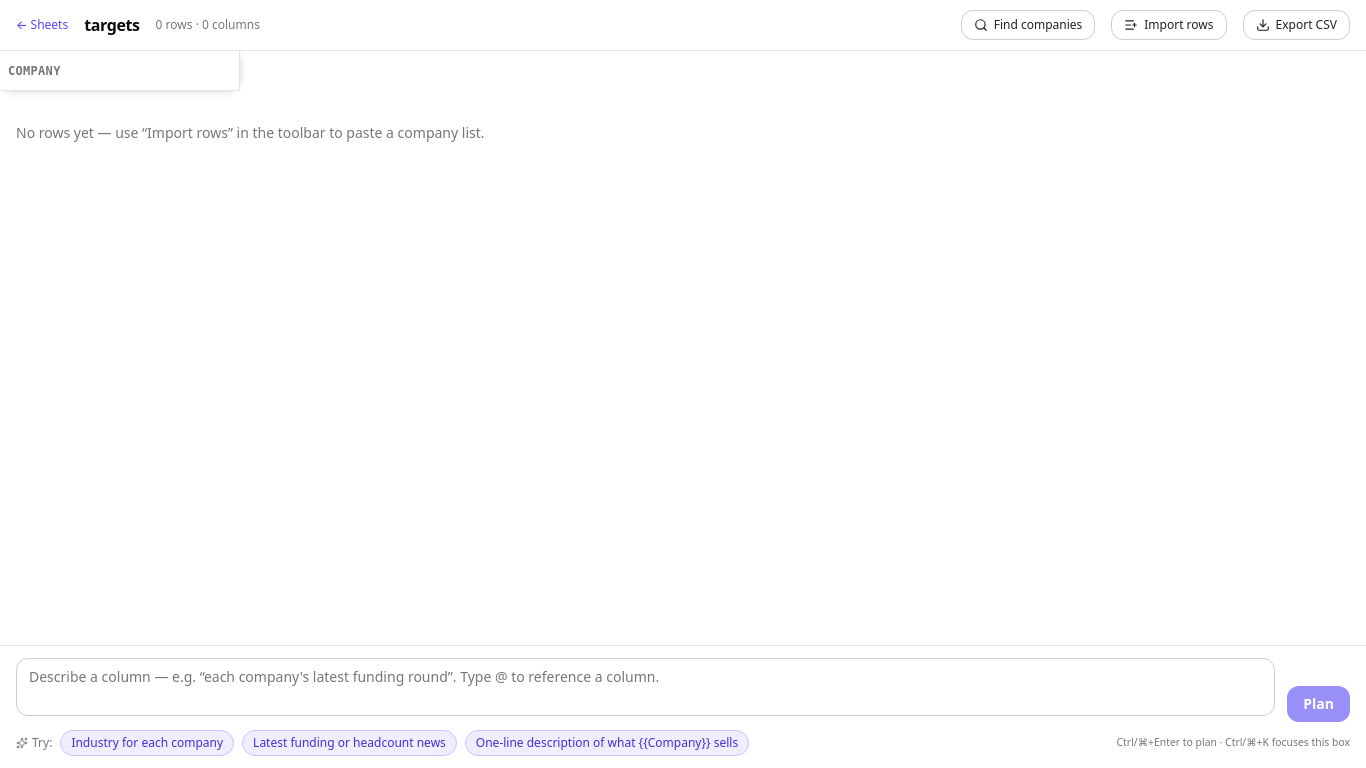
workspace wiring › a successful generation resnapshots the store
This screenshot has width=1366, height=768.
Expected: the element with test id "sheet-toolbar" is shown, [0,0,1365,51]
Click the button "Find companies" at (1028, 25), box [961,10,1095,40]
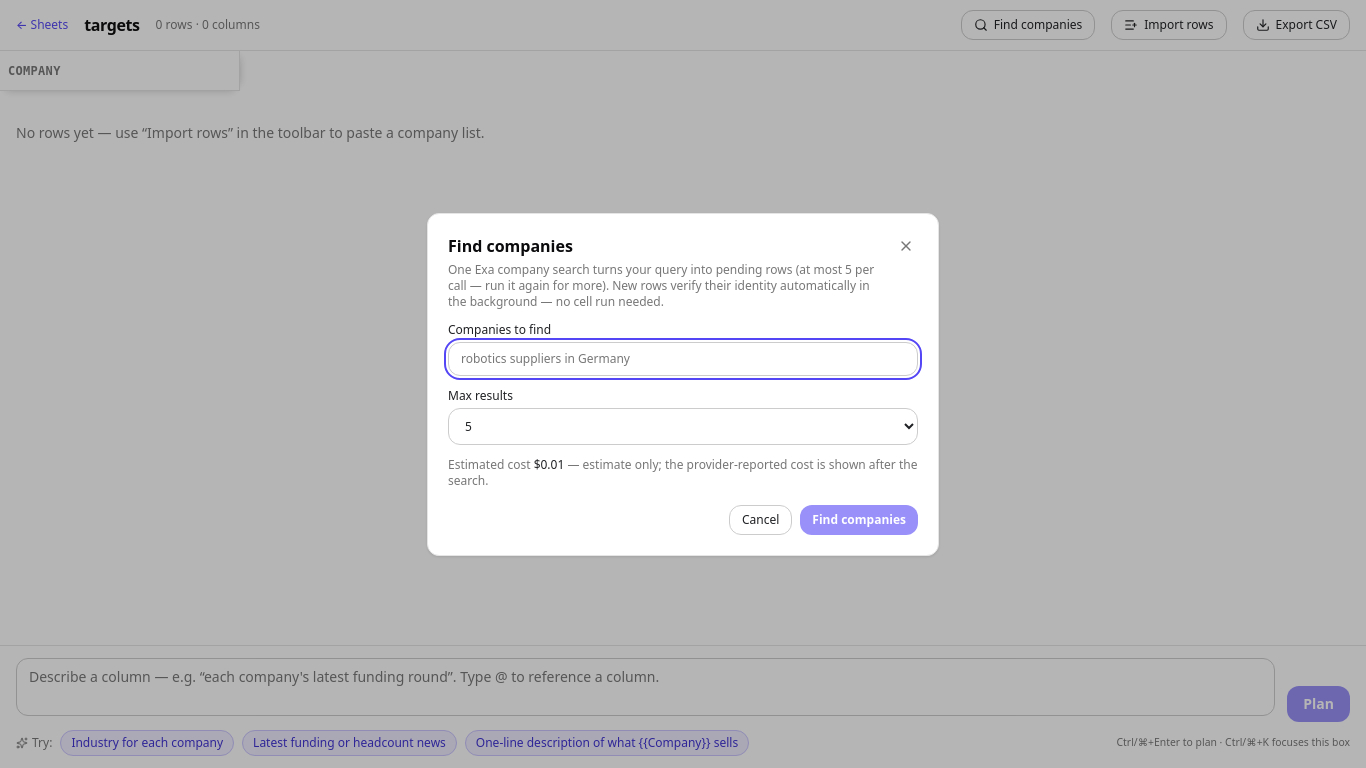
Type "robotics suppliers" into the field labelled "Companies to find" at (683, 358), box [448,342,918,376]
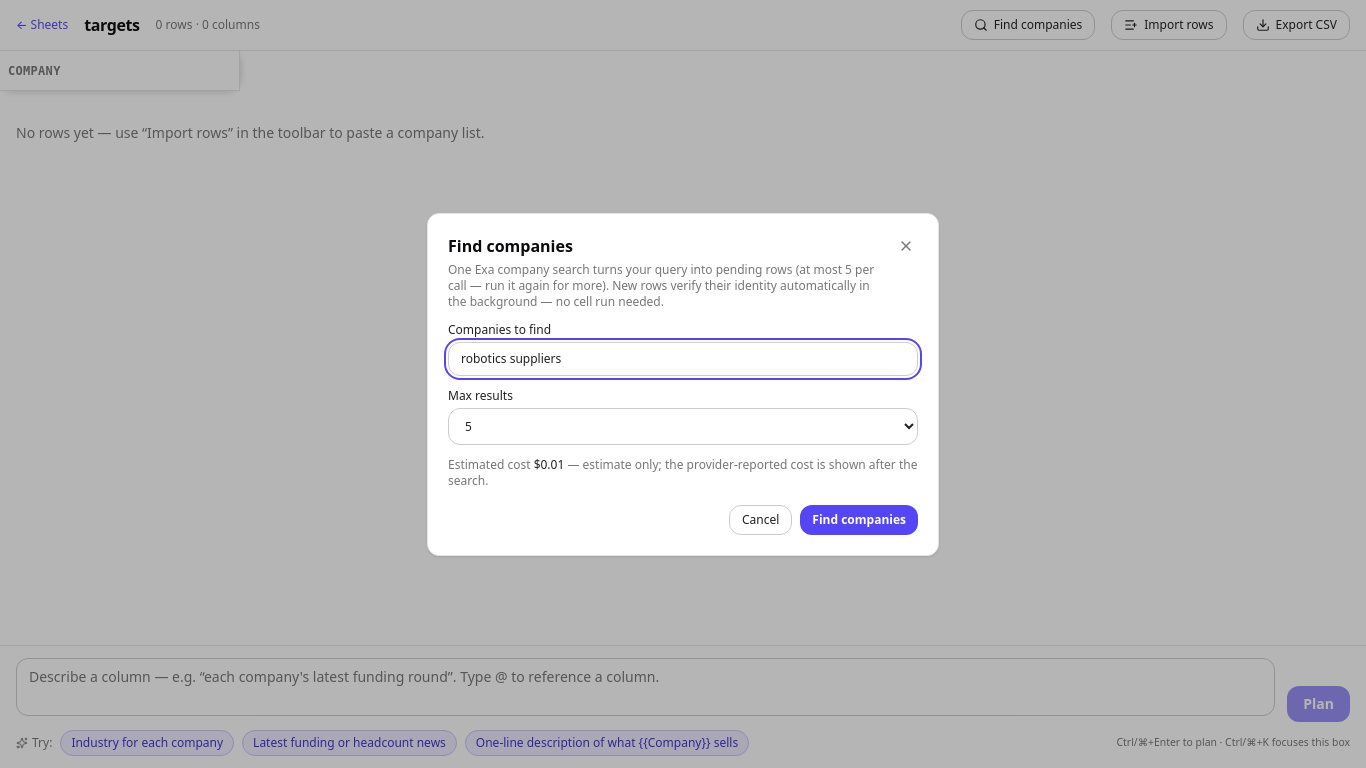
Press Enter
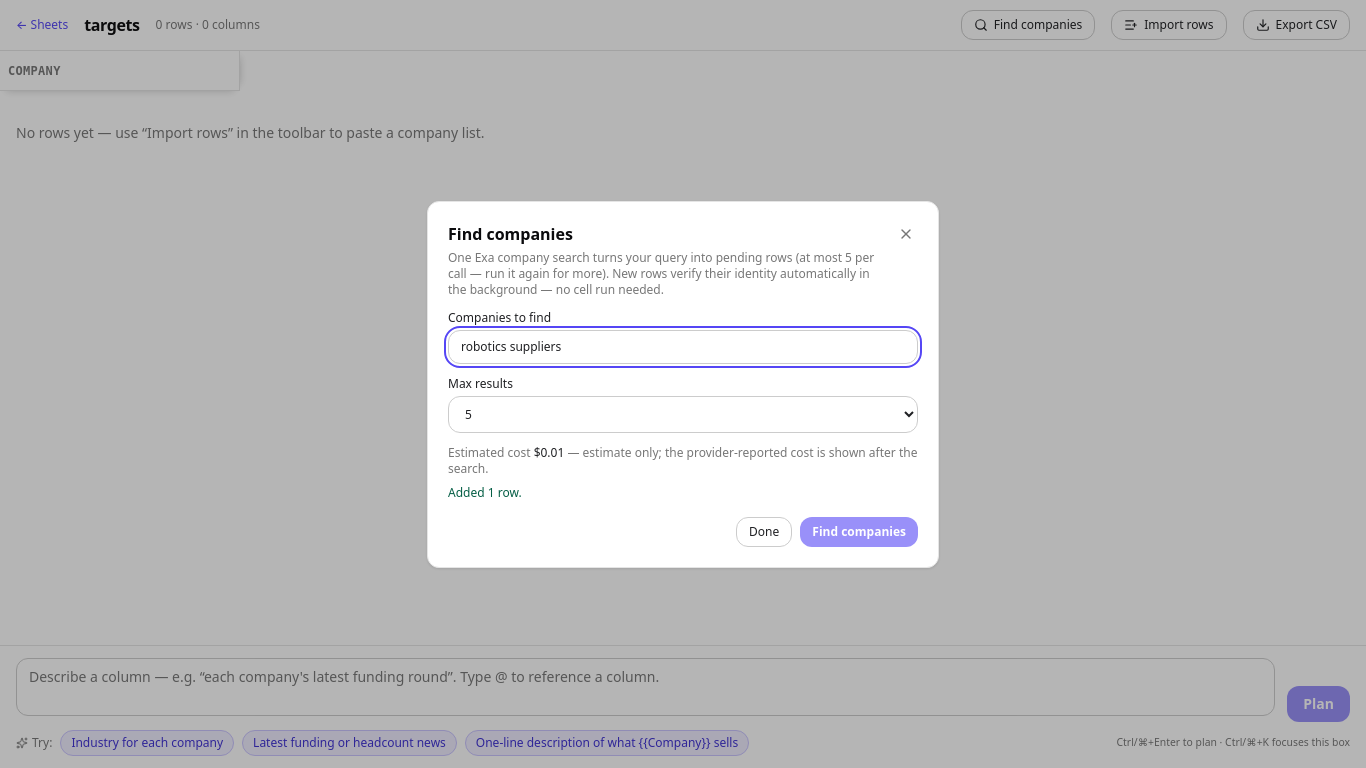
Expected: the message "Added 1 row." is shown, [448,484,522,500]
